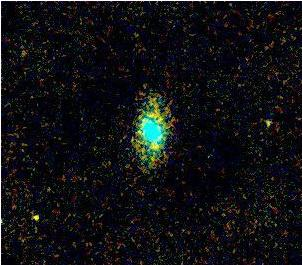star: (21, 201, 51, 231)
